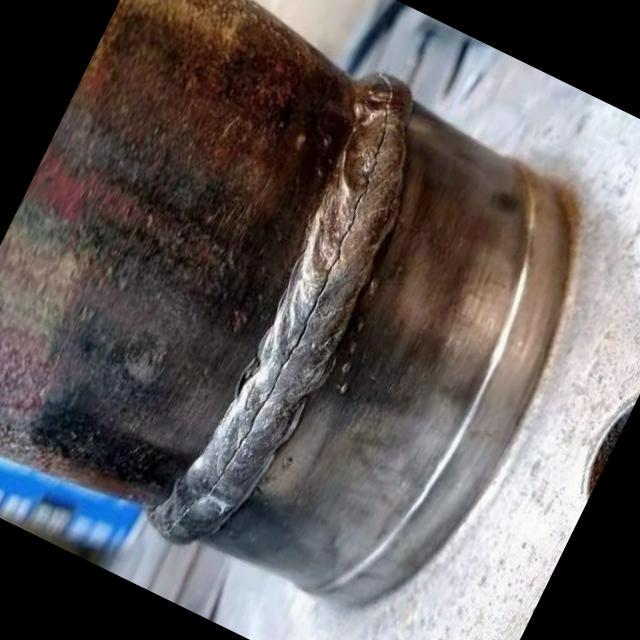defect: (161, 70, 394, 537)
